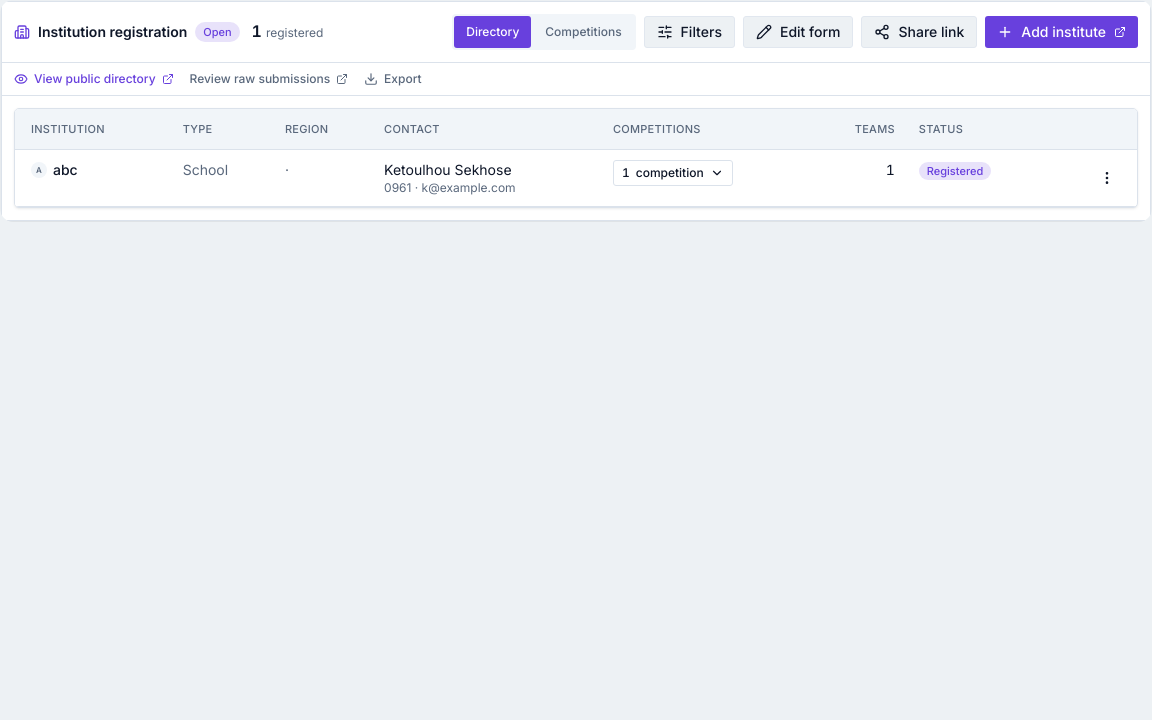
Test: InstitutionsTab › share opens the share modal with channels, not just copy
The width and height of the screenshot is (1152, 720).
Click the button with test id "open-share-dialog". click: click(919, 32)
box: 862,16 -> 977,48
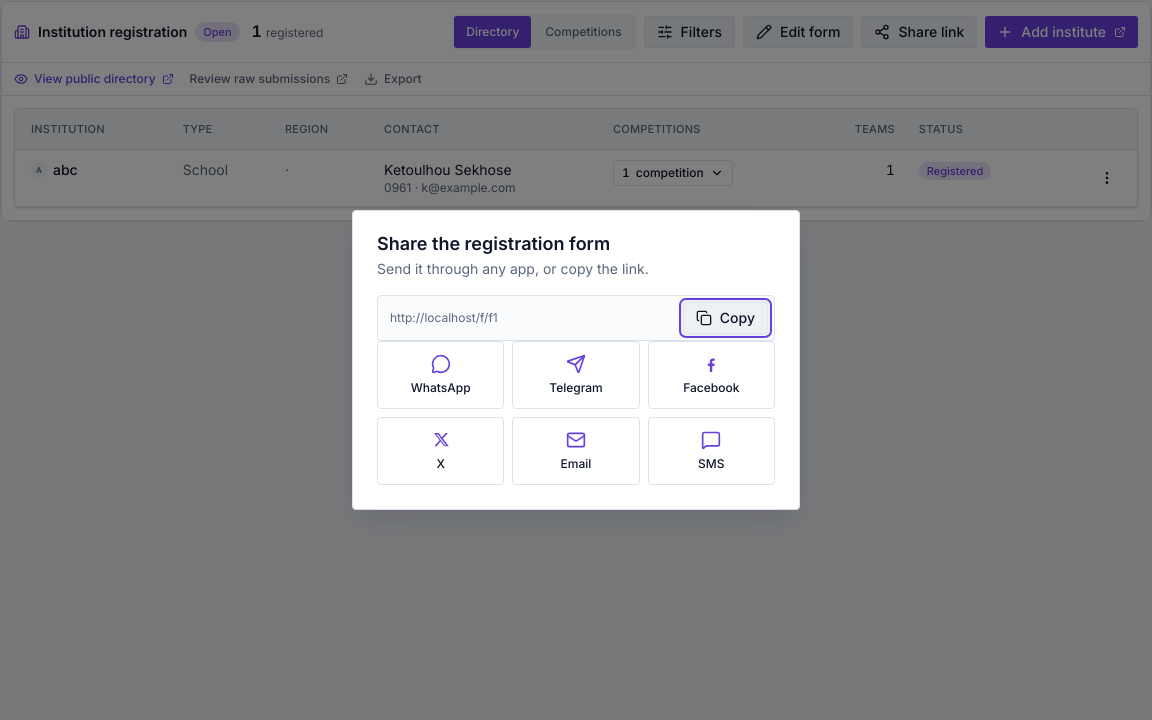
Check: the link "Telegram" is shown, box 512,341 -> 640,409
Check: the link "Email" is shown, box 512,417 -> 640,485
Check: the button "Copy" is shown, box 683,302 -> 768,334
